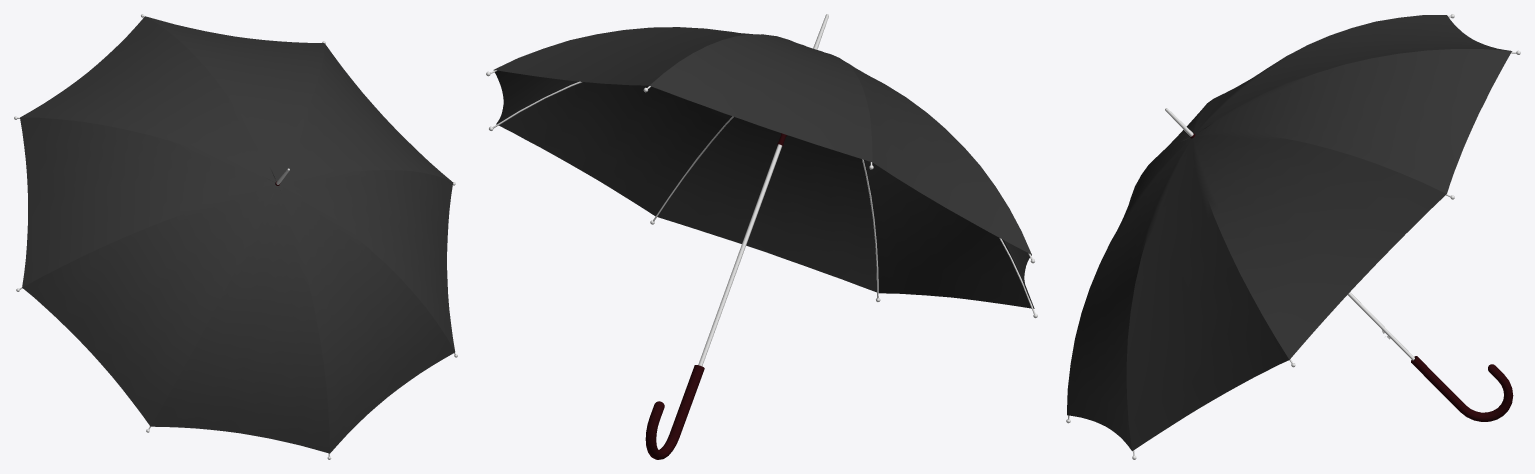
File: umbrella.gltf
3 views of the same model, side by side, from view 1: azimuth 30°, elevation 25°; view 2: azimuth 150°, elevation 25°; view 3: azimuth 270°, elevation 25° (orthographic). The views are drawn at different scales.
Parts seen in each view (by area): view 1: CuteUmbrella_CrossPink_CuteUmbrella_Log556-GRP-378912-CrossP; view 2: CuteUmbrella_CrossPink_CuteUmbrella_Log556-GRP-378912-CrossP, CuteUmbrella_Material_CuteUmbrella_Log556-GRP-378912-Default, CuteUmbrella_White_CuteUmbrella_Log556-GRP-378912-White; view 3: CuteUmbrella_CrossPink_CuteUmbrella_Log556-GRP-378912-CrossP, CuteUmbrella_White_CuteUmbrella_Log556-GRP-378912-White, CuteUmbrella_Material_CuteUmbrella_Log556-GRP-378912-Default.
Boxes of the visible parts, box(x1,y1,x2,y2) form: CuteUmbrella_CrossPink_CuteUmbrella_Log556-GRP-378912-CrossP: box(20, 16, 455, 453); CuteUmbrella_CrossPink_CuteUmbrella_Log556-GRP-378912-CrossP: box(493, 27, 1034, 308); CuteUmbrella_Material_CuteUmbrella_Log556-GRP-378912-Default: box(486, 14, 1037, 366); CuteUmbrella_White_CuteUmbrella_Log556-GRP-378912-White: box(645, 133, 787, 459); CuteUmbrella_CrossPink_CuteUmbrella_Log556-GRP-378912-CrossP: box(1067, 15, 1511, 451); CuteUmbrella_White_CuteUmbrella_Log556-GRP-378912-White: box(1190, 133, 1513, 421); CuteUmbrella_Material_CuteUmbrella_Log556-GRP-378912-Default: box(1066, 14, 1520, 459).
Size of the model in its own units: 1.99 by 1.35 by 1.48.
